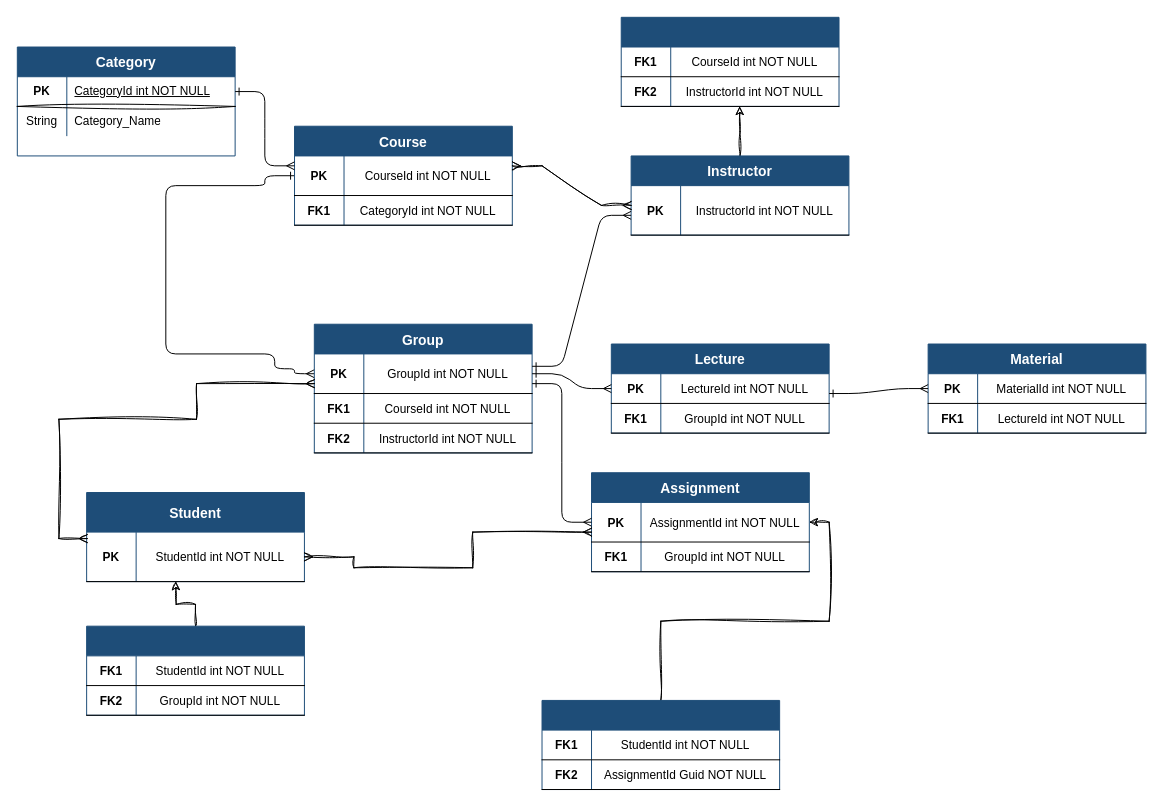
Some shapes in this 1163 by 807 pixel diagram are drawn without their labels. The box of each missing label's shape, as (x1, y1, x2, y2) in pixels:
CourseInstructor: (620, 16, 839, 106)
Enrollment: (86, 625, 304, 715)
StudentAssignment: (541, 699, 780, 790)
